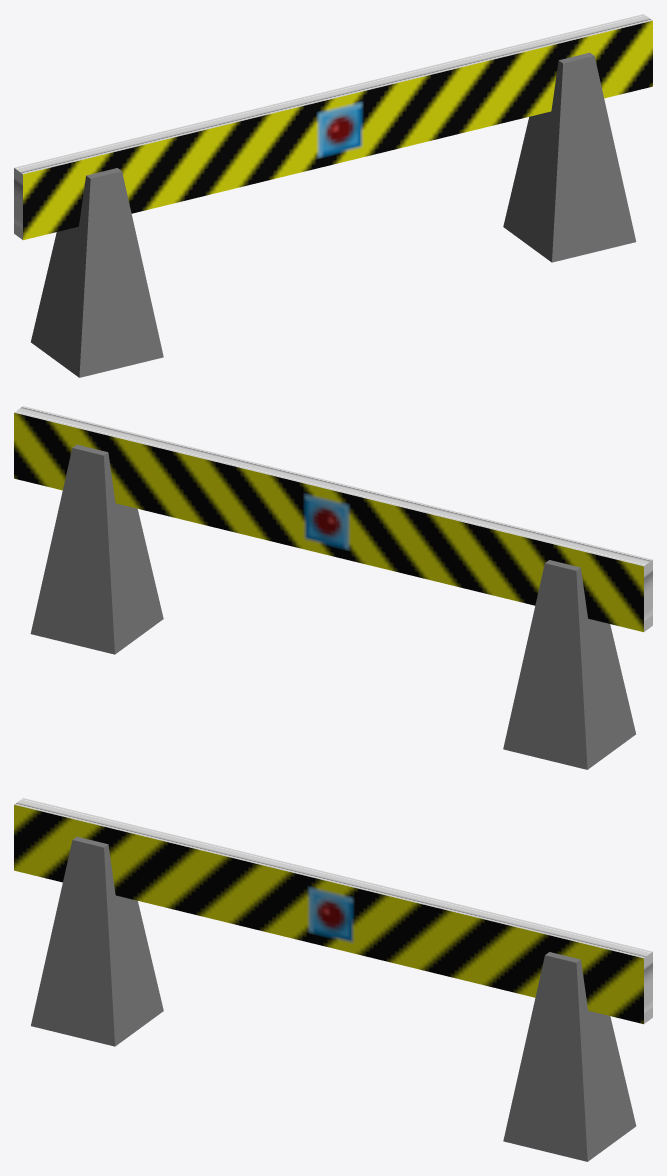
The model's file is barrier1.obj.
3 views of the same model, one above another, from view 1: azimuth 30°, elevation 25°; view 2: azimuth 150°, elevation 25°; view 3: azimuth 330°, elevation 25° (orthographic).
Parts seen in each view (by area): view 1: ColobotMesh_1_ColobotMesh_; view 2: ColobotMesh_1_ColobotMesh_; view 3: ColobotMesh_1_ColobotMesh_.
Part boxes in pixels (x1=…): ColobotMesh_1_ColobotMesh_: x1=14, y1=14, x2=652, y2=377; ColobotMesh_1_ColobotMesh_: x1=14, y1=406, x2=652, y2=769; ColobotMesh_1_ColobotMesh_: x1=14, y1=798, x2=652, y2=1161.
Size of the model in its own units: 20 by 6.01 by 2.68.
